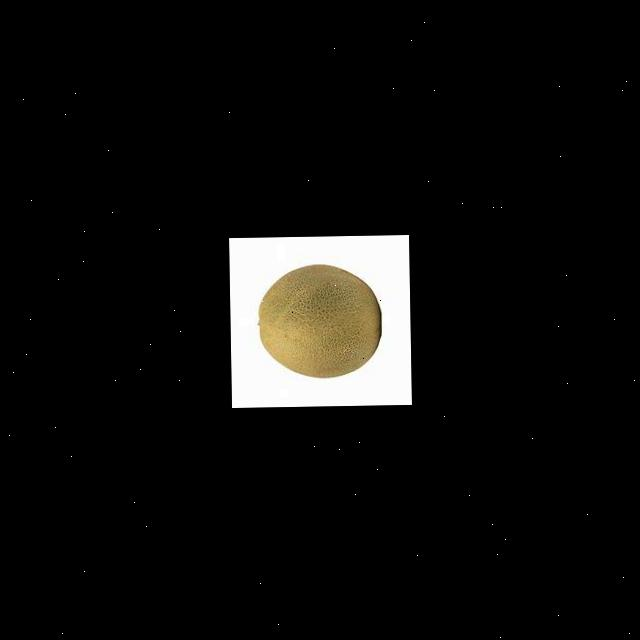Hami Melon: (257, 262, 383, 378)
